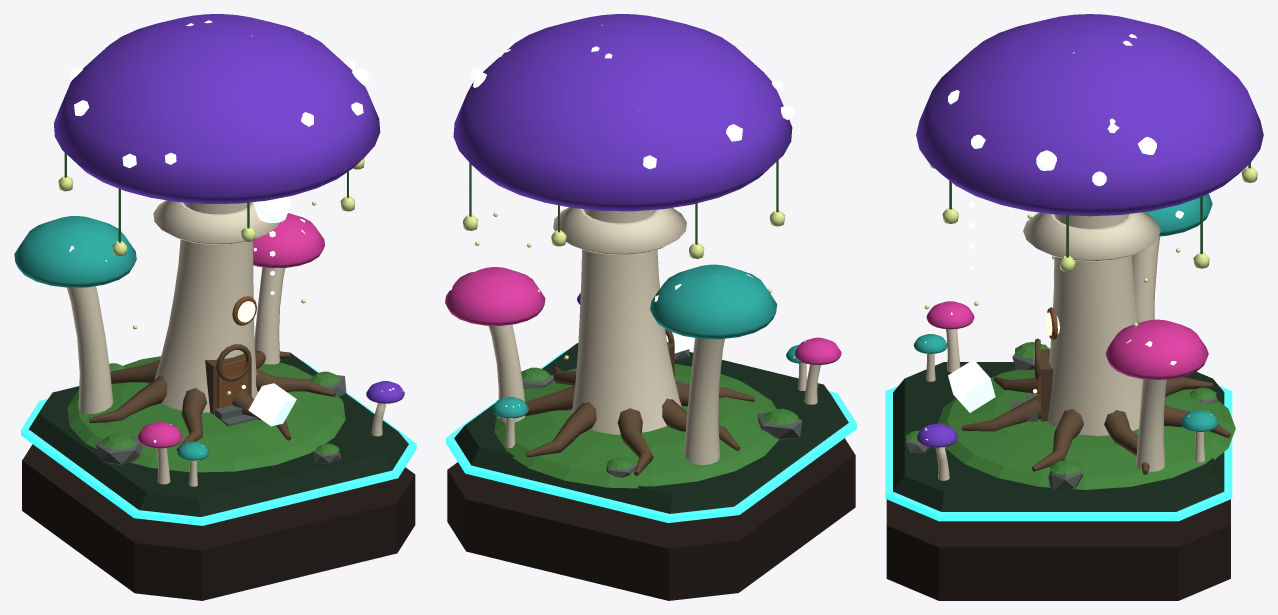
File: GlowshroomGroveMine_Roblox.fbx
The picture shows the model from 3 angles, left to right: view 1: azimuth 30°, elevation 25°; view 2: azimuth 150°, elevation 25°; view 3: azimuth 270°, elevation 25°; orthographic projection. The views are drawn at different scales.
Parts seen in each view (by area): view 1: VioletCap, DarkEarth, MushroomStem, MossMarble, Moss, TealCap, Roots, SporeTrim, MagentaCap, MossyStone, SporeOre, GlowSpots (+3 smaller); view 2: VioletCap, DarkEarth, MushroomStem, Moss, MossMarble, TealCap, MagentaCap, Roots, SporeTrim, MossyStone, GlowSpots, FairyLight; view 3: VioletCap, DarkEarth, MushroomStem, MossMarble, Moss, Roots, MagentaCap, SporeTrim, TealCap, SporeOre, GlowSpots, MossyStone (+1 smaller).
Part boxes in pixels (x1,y1,x2,y2): VioletCap: (54, 14, 404, 403); DarkEarth: (22, 444, 415, 600); MushroomStem: (67, 200, 385, 486); MossMarble: (29, 351, 408, 516); Moss: (67, 356, 345, 472); TealCap: (14, 216, 209, 460); Roots: (88, 344, 335, 450); SporeTrim: (21, 360, 416, 525); MagentaCap: (137, 213, 324, 448); MossyStone: (95, 373, 346, 464); SporeOre: (248, 383, 296, 426); GlowSpots: (69, 20, 402, 453); VioletCap: (453, 14, 792, 304); DarkEarth: (447, 438, 855, 600); MushroomStem: (488, 207, 820, 465); Moss: (494, 364, 798, 488); MossMarble: (454, 343, 848, 513); TealCap: (492, 264, 805, 418); MagentaCap: (445, 267, 841, 364); Roots: (493, 329, 754, 475); SporeTrim: (446, 351, 856, 522); MossyStone: (521, 349, 802, 477); GlowSpots: (450, 25, 838, 407); FairyLight: (463, 210, 785, 359); VioletCap: (916, 14, 1263, 447); DarkEarth: (886, 499, 1230, 600); MushroomStem: (926, 212, 1205, 480); MossMarble: (893, 362, 1224, 511); Moss: (905, 342, 1235, 489); Roots: (961, 338, 1230, 474); MagentaCap: (926, 301, 1208, 379); SporeTrim: (885, 385, 1232, 521); TealCap: (913, 194, 1218, 431); SporeOre: (948, 359, 995, 412); GlowSpots: (925, 34, 1217, 440); MossyStone: (905, 344, 1217, 491).
Size of the model in its own units: 1159 by 1680 by 1154.
